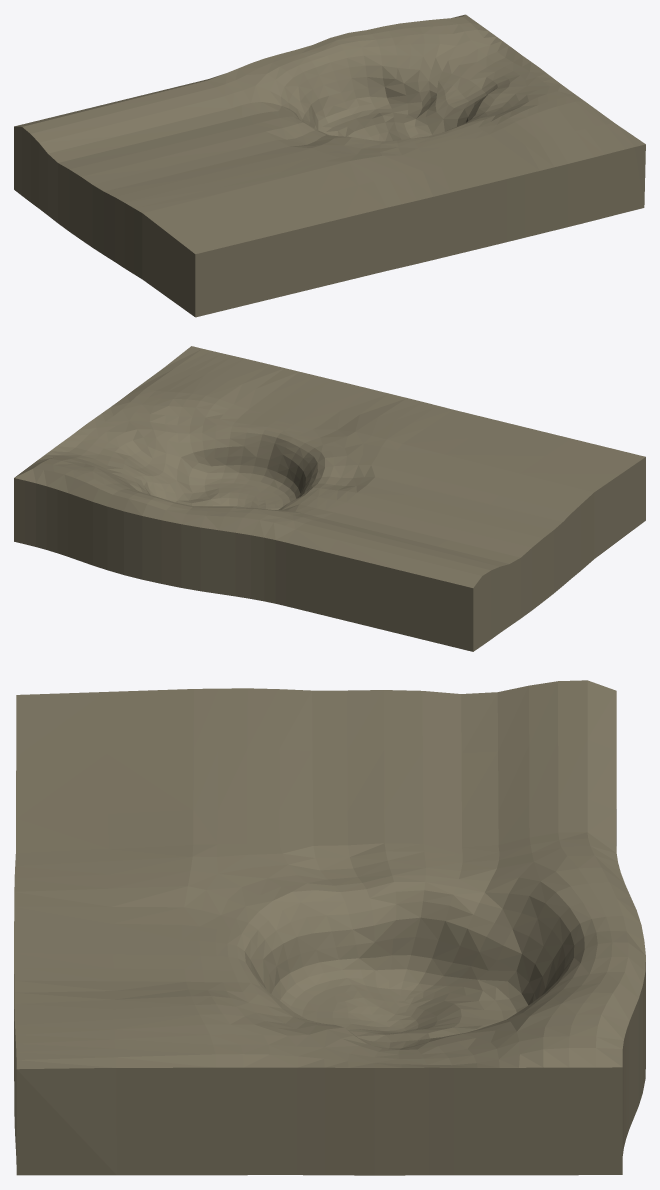
Rendered from crater.fbx.
3 renders of one model, top to bottom at view 1: azimuth 30°, elevation 25°; view 2: azimuth 150°, elevation 25°; view 3: azimuth 270°, elevation 25°, orthographic. The views are drawn at different scales.
Parts seen in each view (by area): view 1: crater; view 2: crater; view 3: crater.
Boxes of the visible parts, x1,y1,x2,y2 form: crater: (14, 14, 645, 317); crater: (14, 346, 645, 651); crater: (14, 680, 645, 1175).
Bounding box in the file's own units: 14.98 × 2.29 × 10.54.
